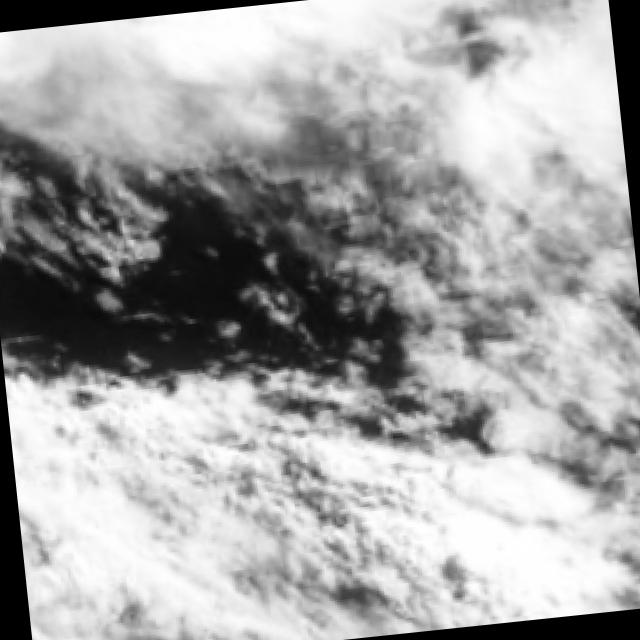CB: (41, 8, 236, 145), (492, 58, 632, 244), (230, 0, 411, 133)
